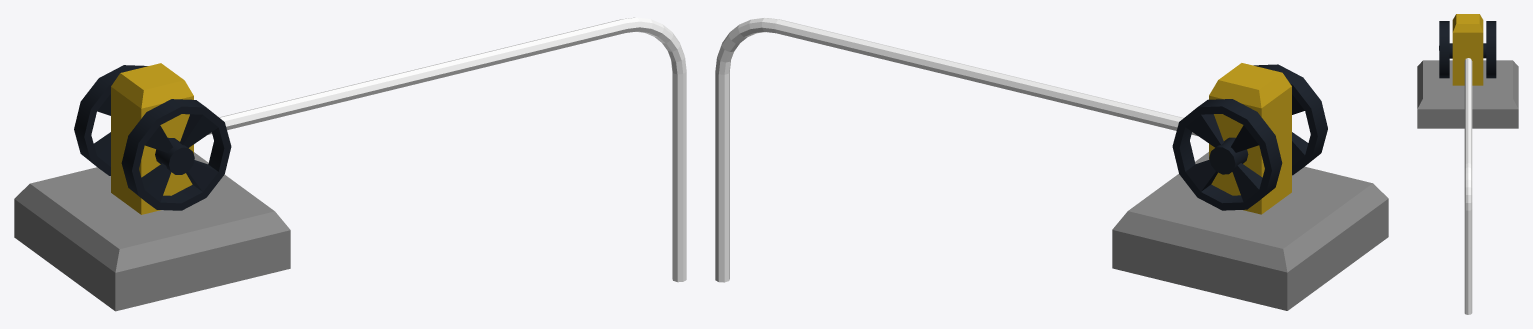
Rendered from 074 Pump_with_pipe.fbx.
The picture shows the model from 3 angles, left to right: view 1: azimuth 30°, elevation 25°; view 2: azimuth 150°, elevation 25°; view 3: azimuth 270°, elevation 25°; orthographic projection. The views are drawn at different scales.
Parts seen in each view (by area): view 1: Box069, Line046; view 2: Box069, Line046; view 3: Box069, Line046.
Boxes of the visible parts, x1=… form: Box069: x1=14, y1=63, x2=290, y2=311; Line046: x1=208, y1=17, x2=686, y2=282; Box069: x1=1112, y1=63, x2=1388, y2=310; Line046: x1=715, y1=18, x2=1197, y2=282; Box069: x1=1417, y1=14, x2=1518, y2=128; Line046: x1=1464, y1=58, x2=1472, y2=314.
Bounding box in the file's own units: 475 × 242 × 134.
